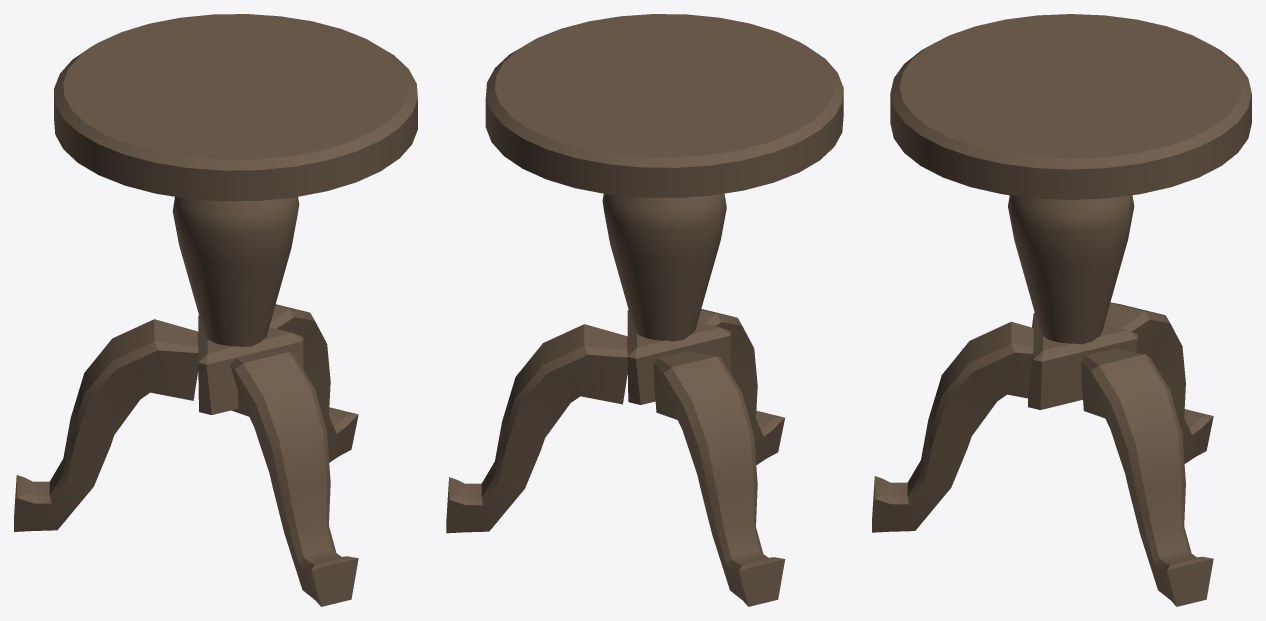
File: PedestalTable.fbx
3 renders of one model, left to right at view 1: azimuth 30°, elevation 25°; view 2: azimuth 150°, elevation 25°; view 3: azimuth 270°, elevation 25°, orthographic.
Visible parts, largest first — view 1: PedestalTable; view 2: PedestalTable; view 3: PedestalTable.
Part boxes in pixels (x1,y1,x2,y2): PedestalTable: [14, 14, 417, 606]; PedestalTable: [446, 14, 843, 606]; PedestalTable: [872, 14, 1251, 606].
Bounding box in the file's own units: 59.16 × 73.28 × 57.39.
